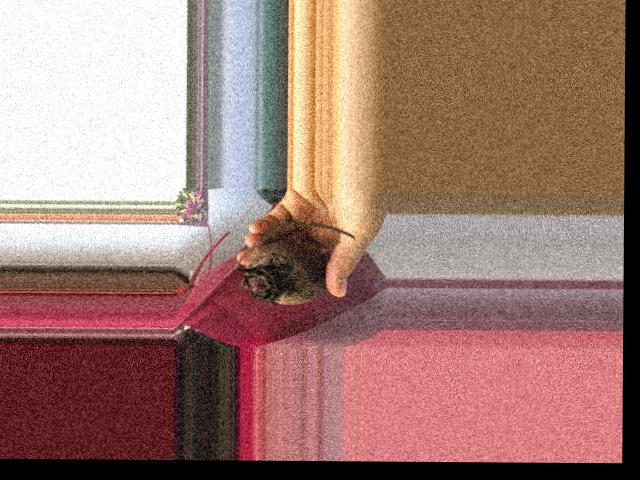beet: (232, 222, 355, 305)
